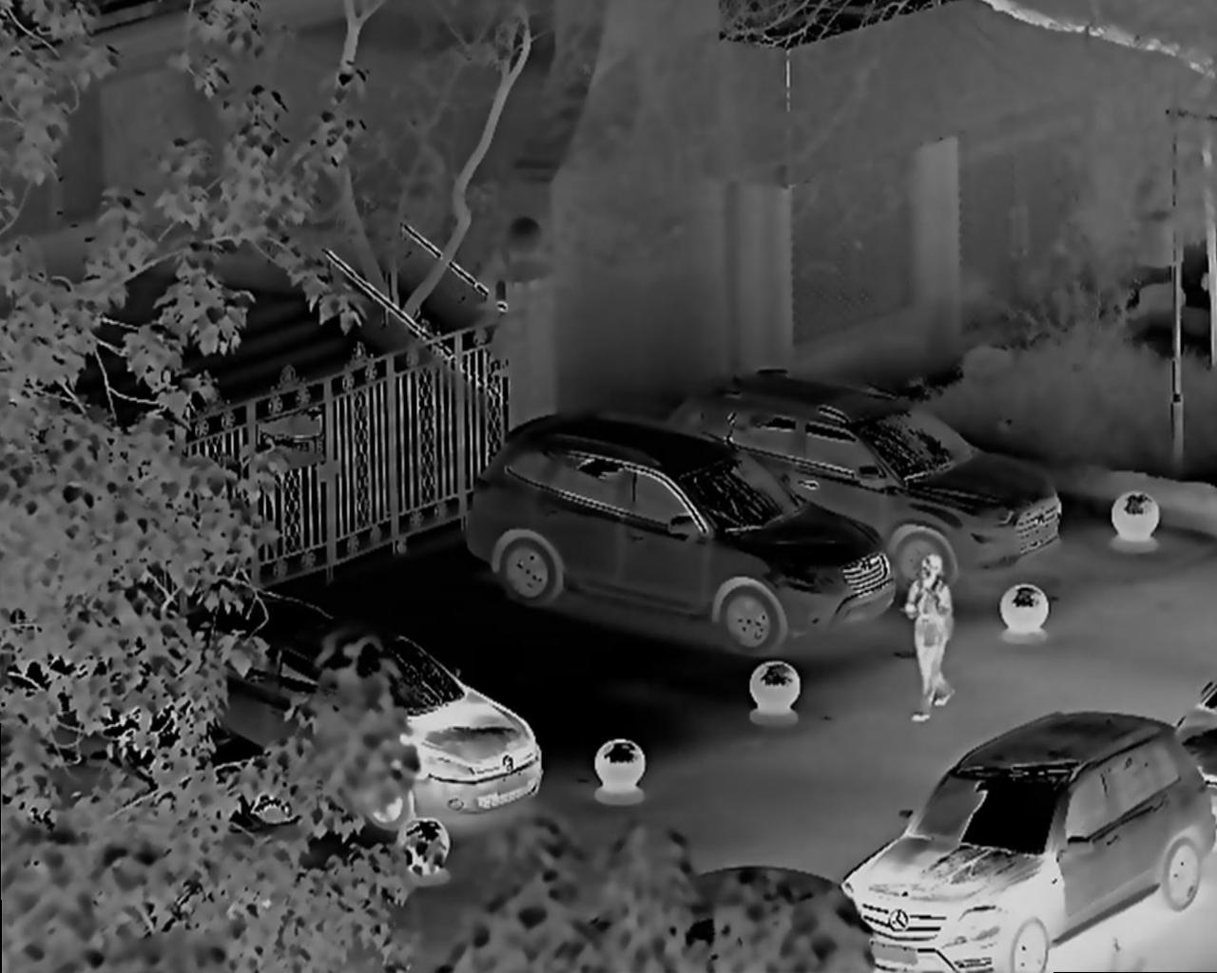person: (905, 544, 973, 729)
